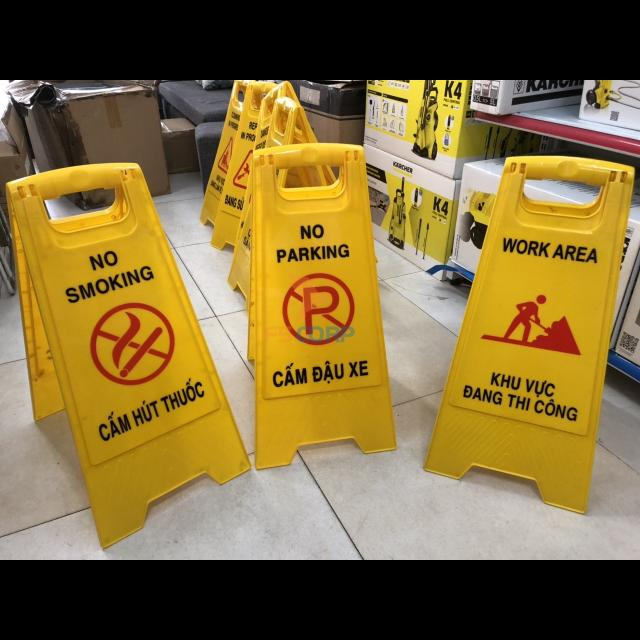cam hut thuoc: (7, 164, 250, 547)
